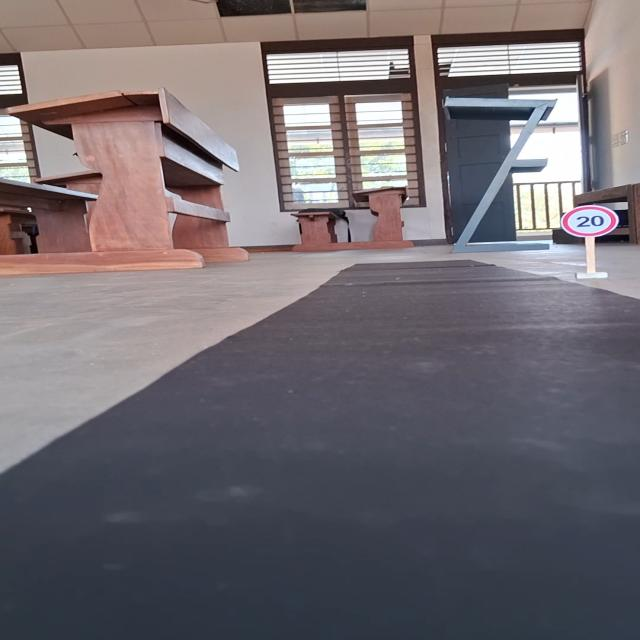Speed20: (554, 205, 623, 239)
